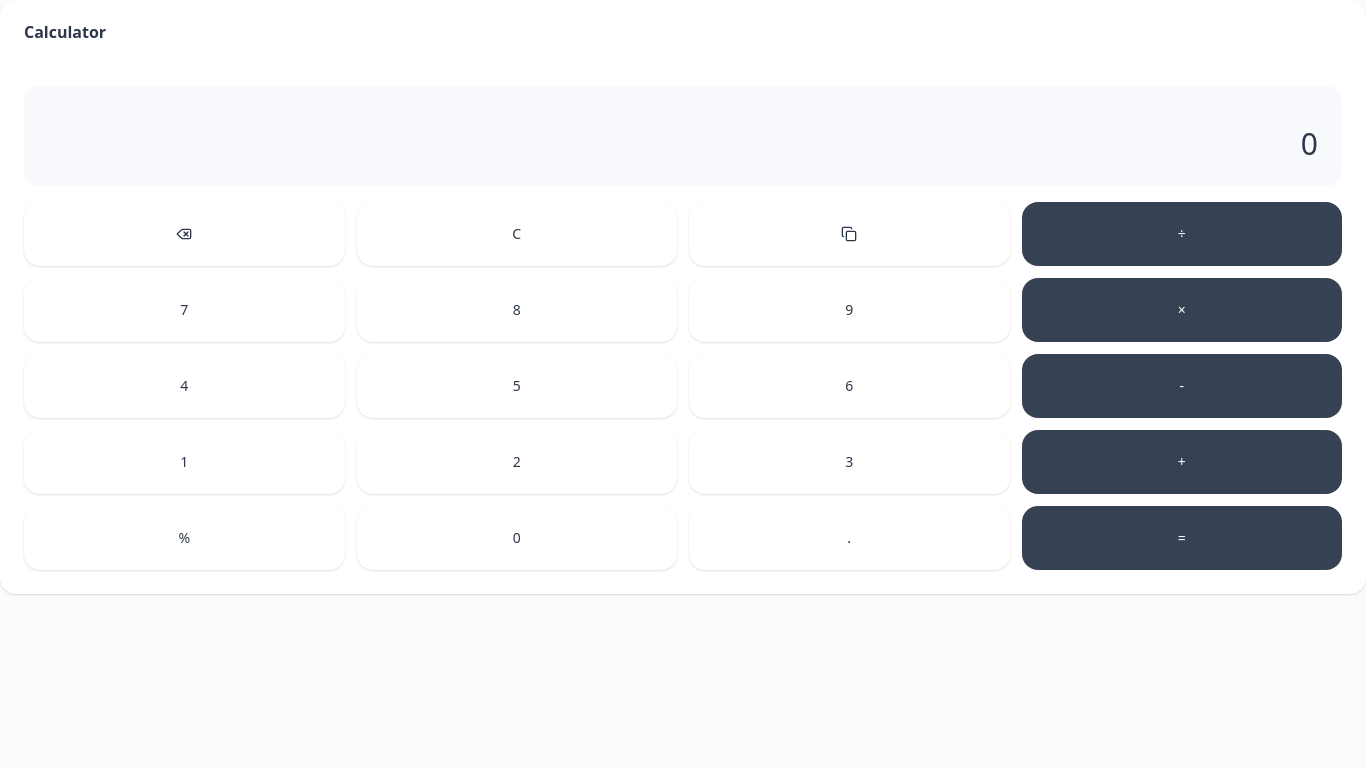
Test: Calculator Component › Number Input › should display number when clicked
Click the button with test id "calculator-5" at {"x": 517, "y": 386}, box [356, 354, 677, 418]
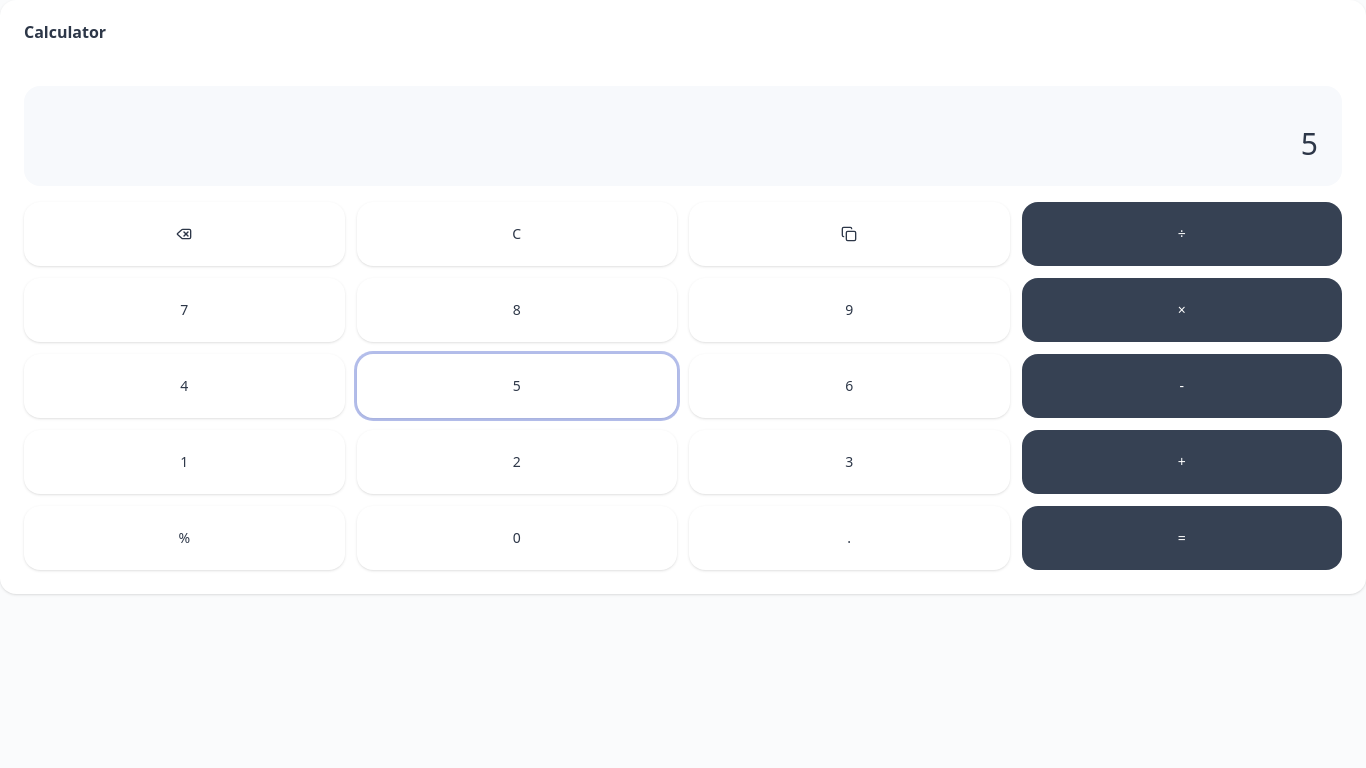
Expected: the text with test id "calculator-display" reads "5", [1301, 123, 1318, 164]
